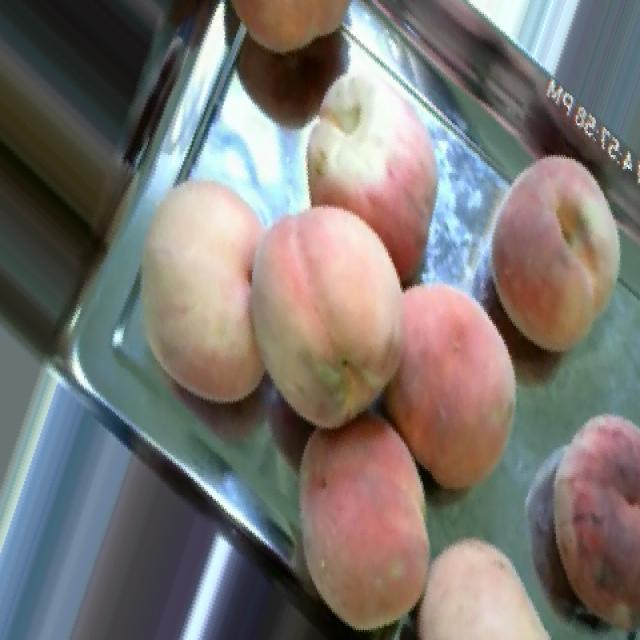Fruit: (224, 185, 425, 451), (106, 159, 286, 431), (258, 391, 449, 640), (363, 264, 536, 505), (469, 139, 640, 368), (282, 66, 458, 282), (522, 397, 640, 640), (392, 522, 584, 640), (203, 0, 376, 72)
